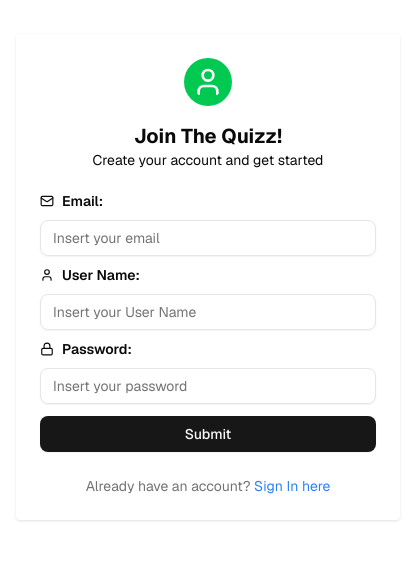
it: SignUpForm › shows error if missing email, usernmae or password
The width and height of the screenshot is (417, 580).
What coordinates should you click on to do the following:
click the button "Submit"
I would click on:
 (208, 434)
Its box is [40,416,376,452].
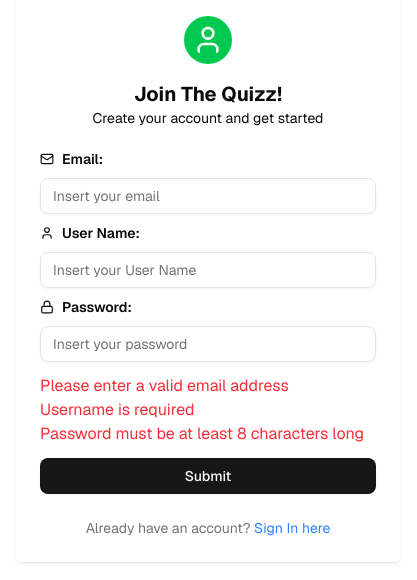
Check: the list with test id "error-list" is shown, box [40,374,376,446]
Check: the list item "Please enter a valid email address" is shown, box [40,375,289,396]
Check: the list item "Username is required" is shown, box [40,399,195,420]
